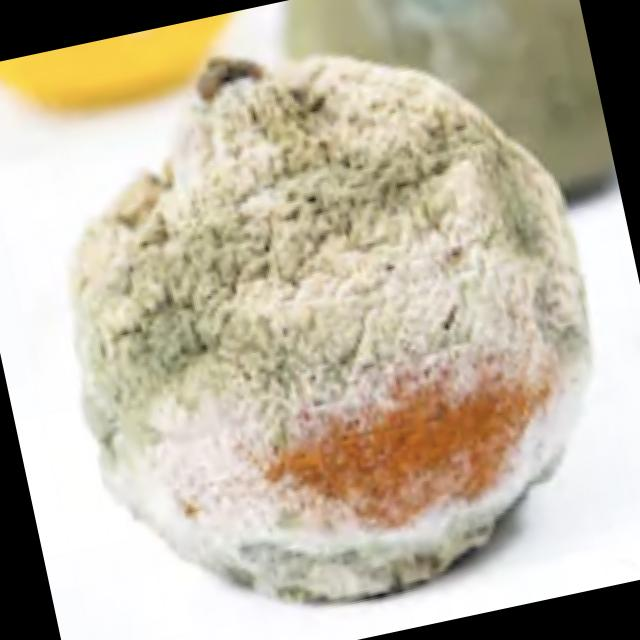rotten-orange: (17, 9, 635, 640)
